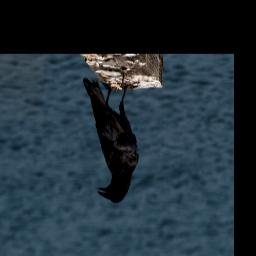Crow: (82, 75, 139, 204)
